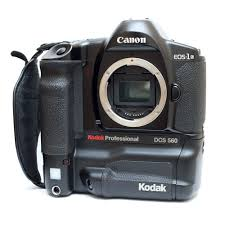camera: (42, 26, 206, 200)
